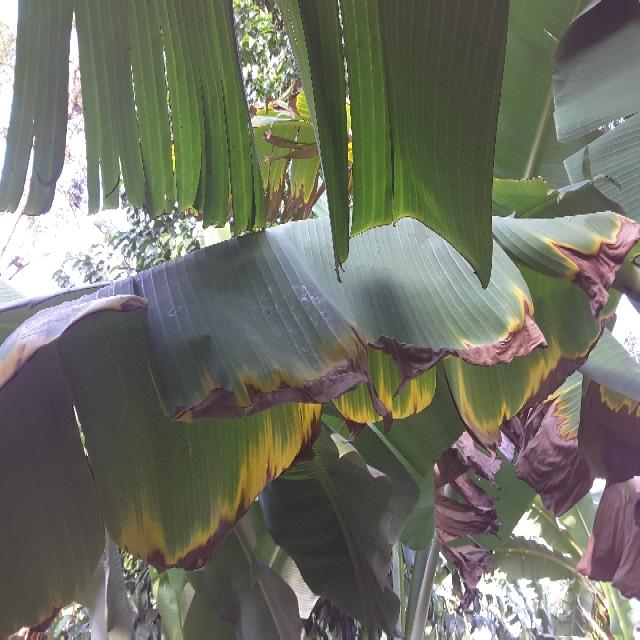Cordana: (108, 431, 318, 578), (166, 353, 395, 430), (376, 296, 547, 387), (424, 433, 504, 603), (500, 386, 599, 522), (531, 203, 640, 321), (578, 470, 640, 607), (575, 360, 640, 485), (257, 116, 326, 170), (75, 282, 149, 330), (0, 328, 50, 391), (15, 582, 67, 640), (282, 79, 317, 115), (241, 94, 261, 123)
